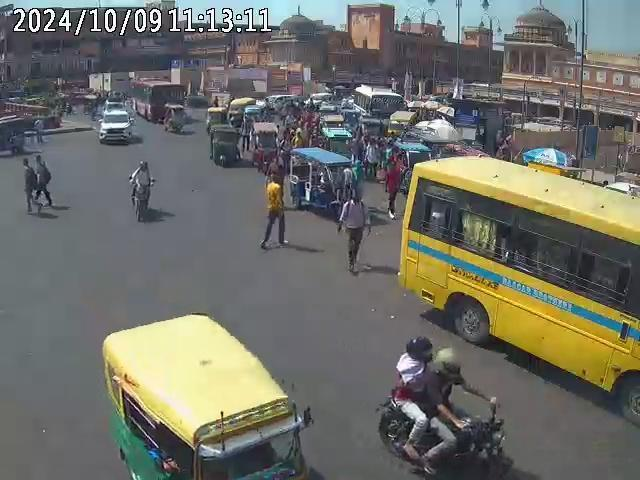auto: (98, 311, 318, 479), (286, 147, 358, 219), (0, 113, 37, 158), (250, 120, 278, 173), (208, 122, 240, 168)
bus: (398, 154, 639, 412)
car: (98, 110, 134, 145)
helmet: (434, 348, 464, 382), (404, 335, 434, 362), (138, 160, 150, 173)
motorbike-rider: (375, 335, 512, 479), (126, 160, 154, 222)
person: (337, 187, 373, 274), (262, 176, 287, 249), (383, 147, 402, 218), (22, 155, 40, 215), (34, 154, 54, 208)
